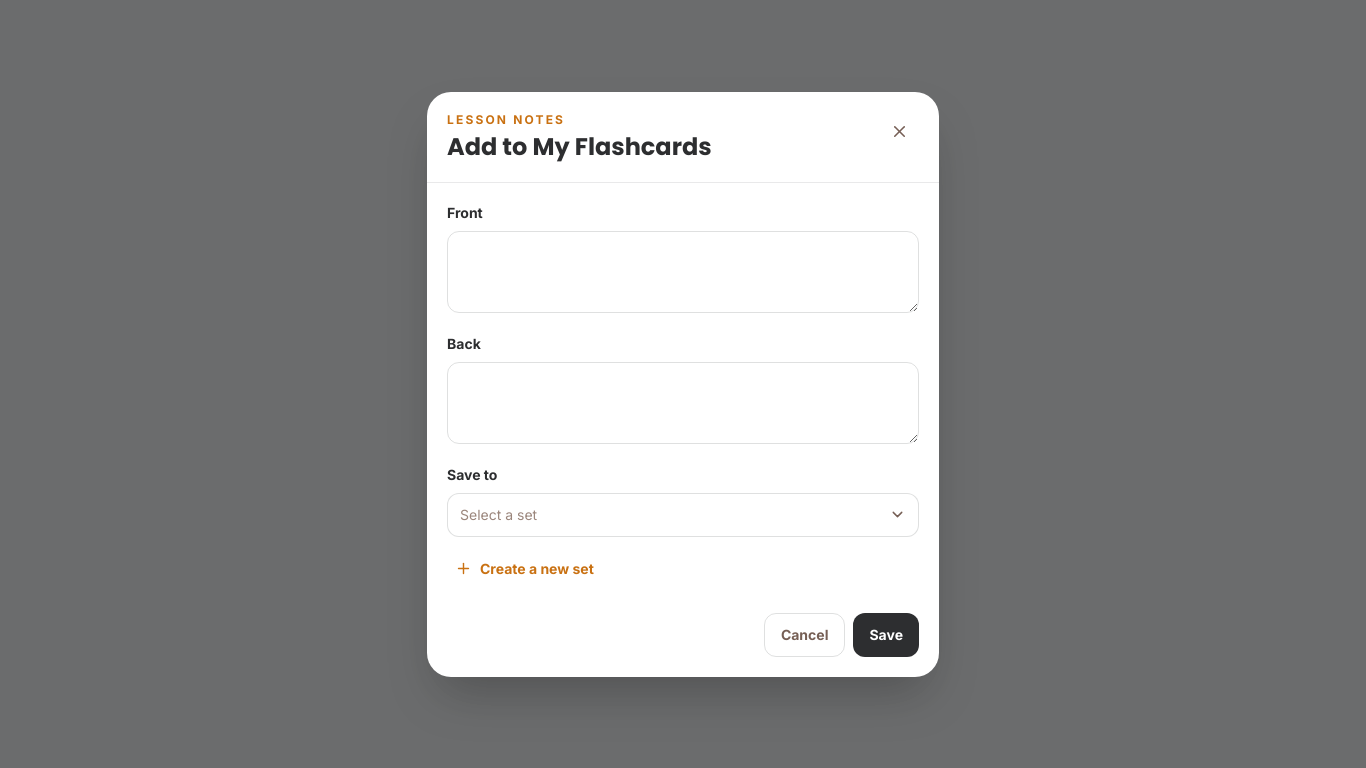
it: SaveFlashcardModal › loads a student's sets and validates the front, back, and destination
The width and height of the screenshot is (1366, 768).
Check: the button "Save" is enabled, box top-left (854, 612), bottom-right (919, 656)
Click the button "Select a set": [499, 514] box top-left (447, 492), bottom-right (919, 536)
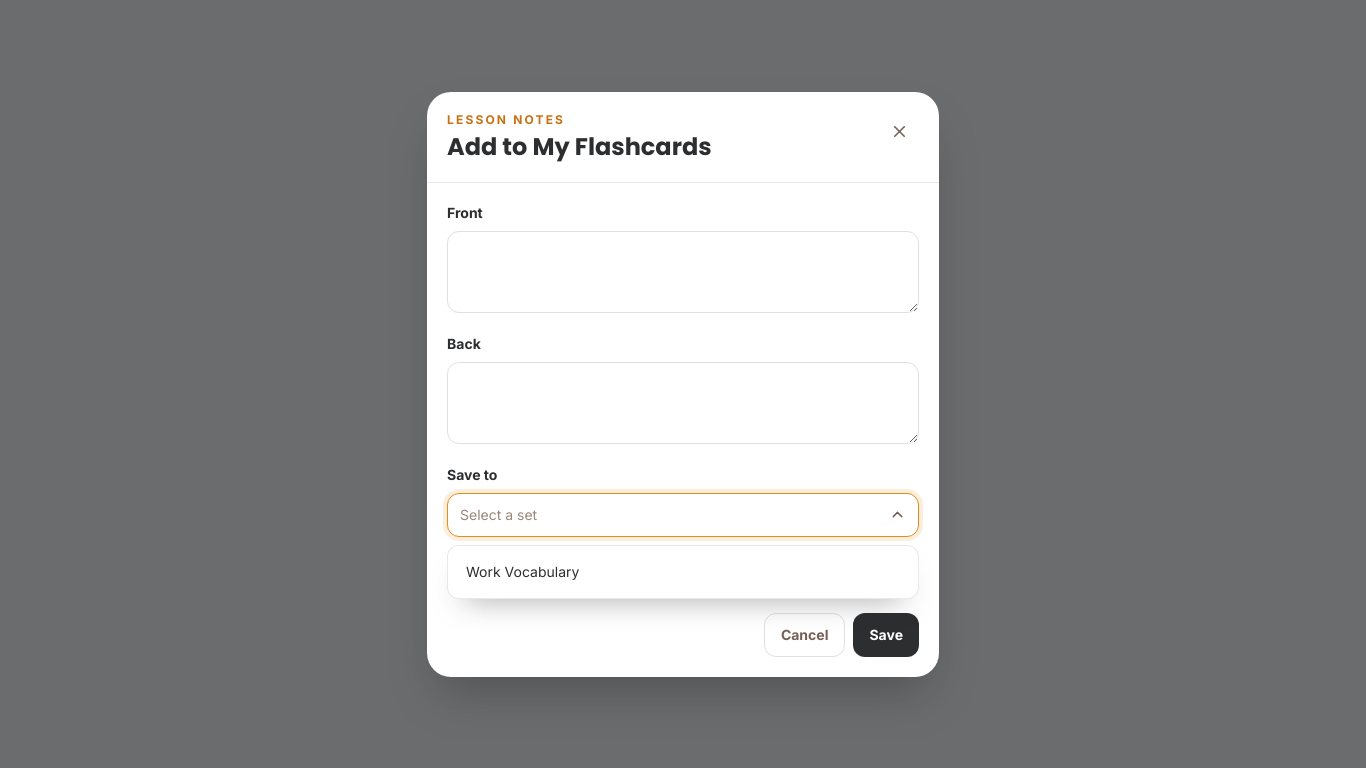
Check: the option "Work Vocabulary" is shown, box top-left (454, 552), bottom-right (912, 592)
Click the button "Select a set": [499, 514] box top-left (447, 492), bottom-right (919, 536)
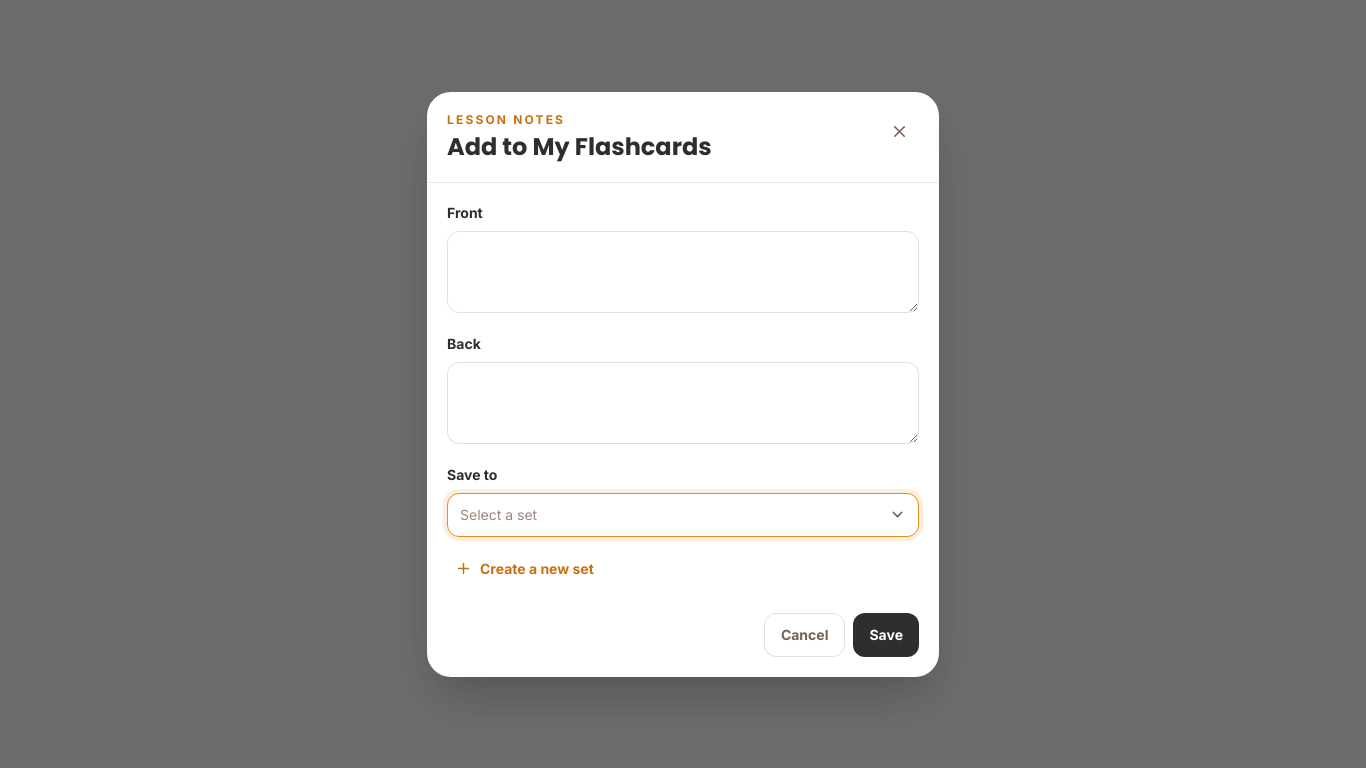
Click the button "Save": [886, 634] box top-left (854, 612), bottom-right (919, 656)
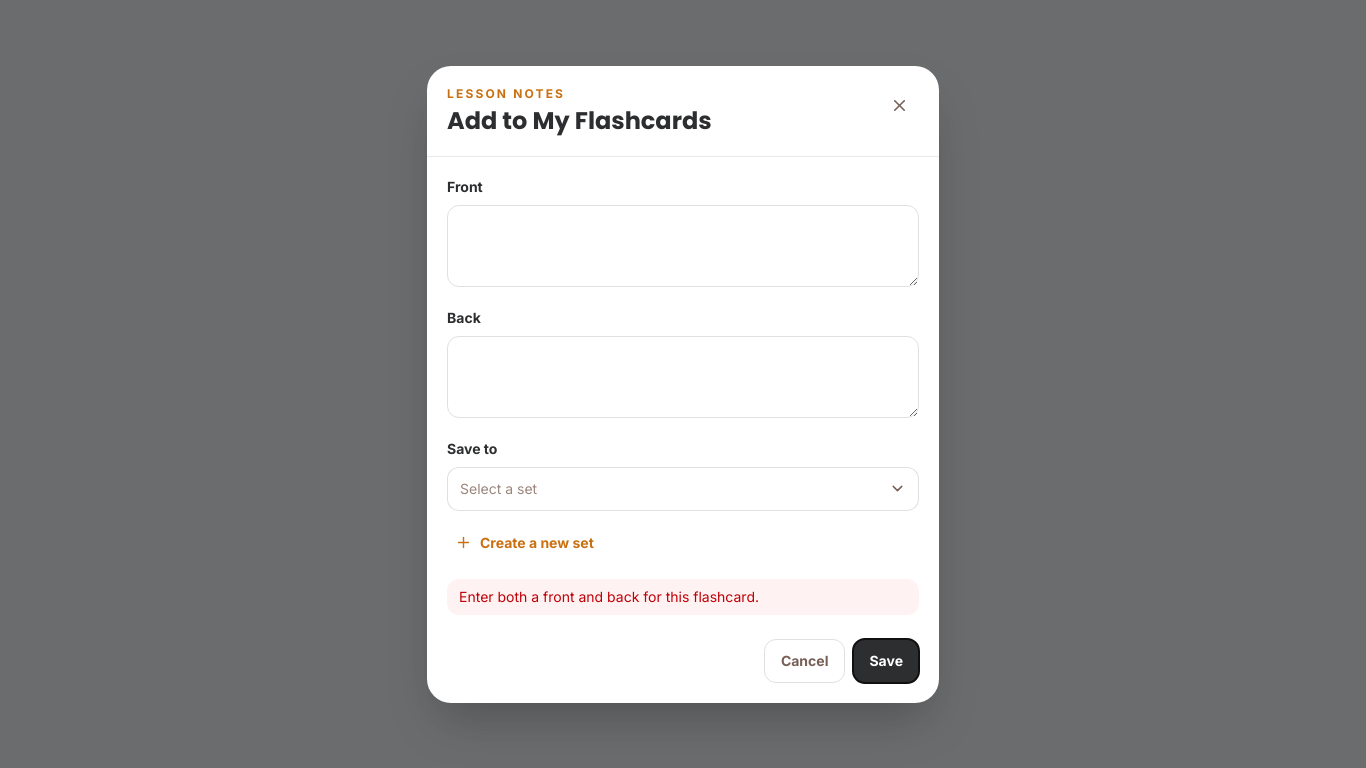
Check: the message shows "front and back", box top-left (459, 588), bottom-right (759, 604)
In the text box labelled "Front": [683, 246] box top-left (447, 204), bottom-right (919, 286), type "สวัสดี"
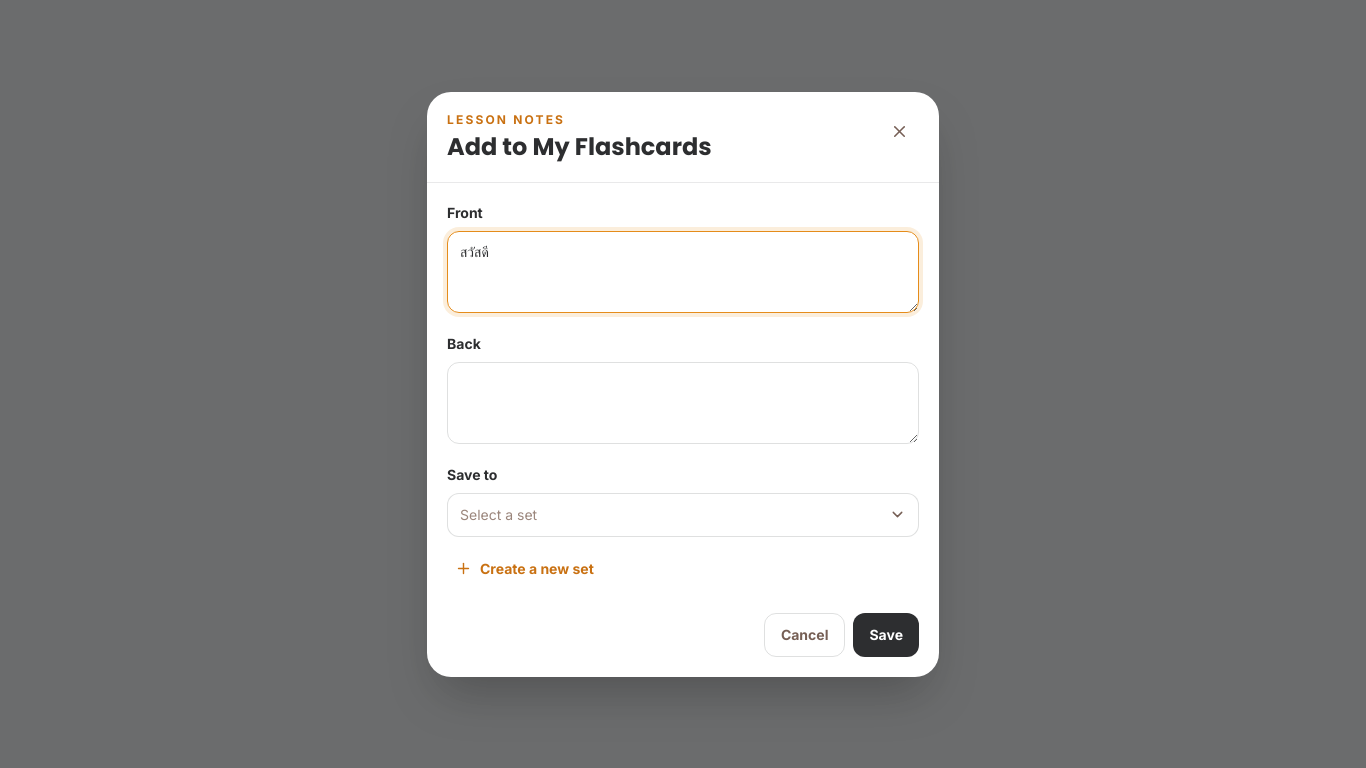
In the text box labelled "Back": [683, 402] box top-left (447, 362), bottom-right (919, 444), type "Hello"
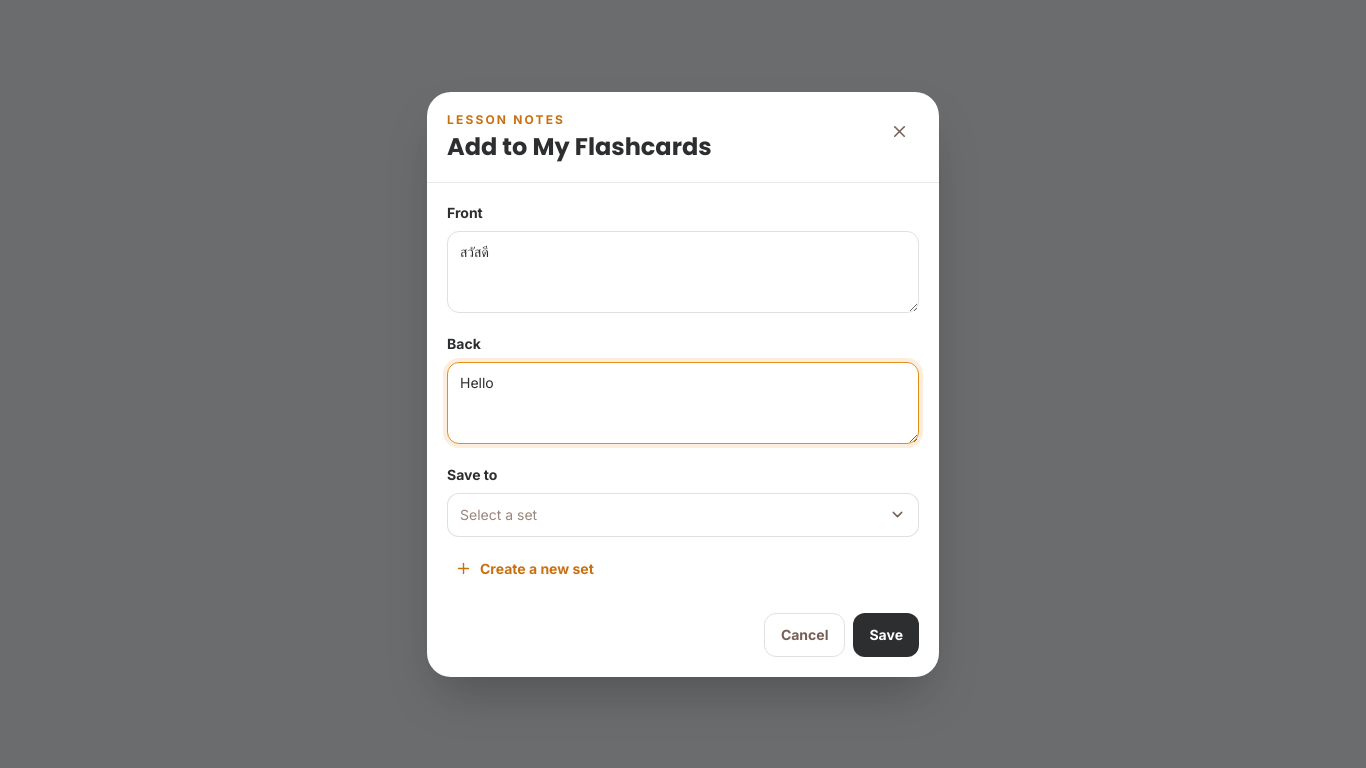
Click the button "Save": [886, 634] box top-left (854, 612), bottom-right (919, 656)
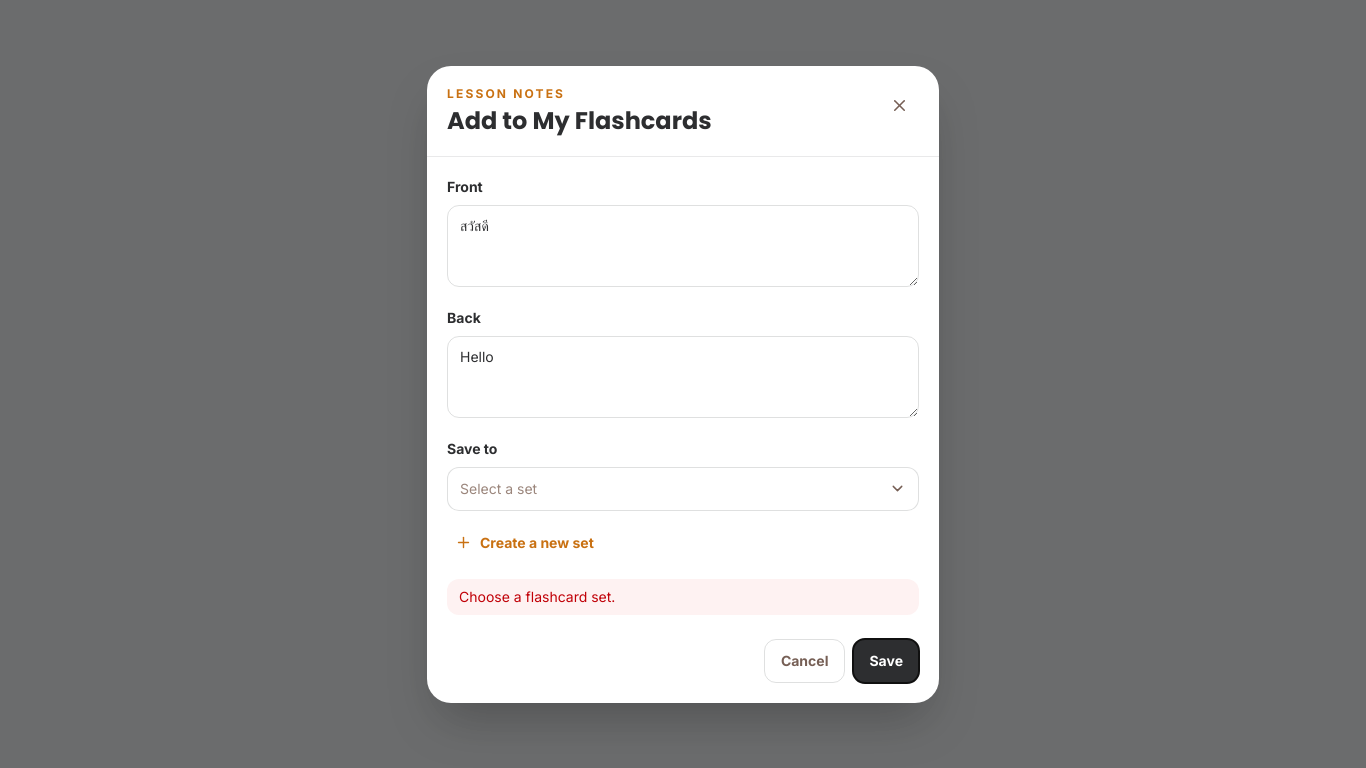
Check: the message shows "Choose a flashcard set", box top-left (459, 588), bottom-right (615, 604)
